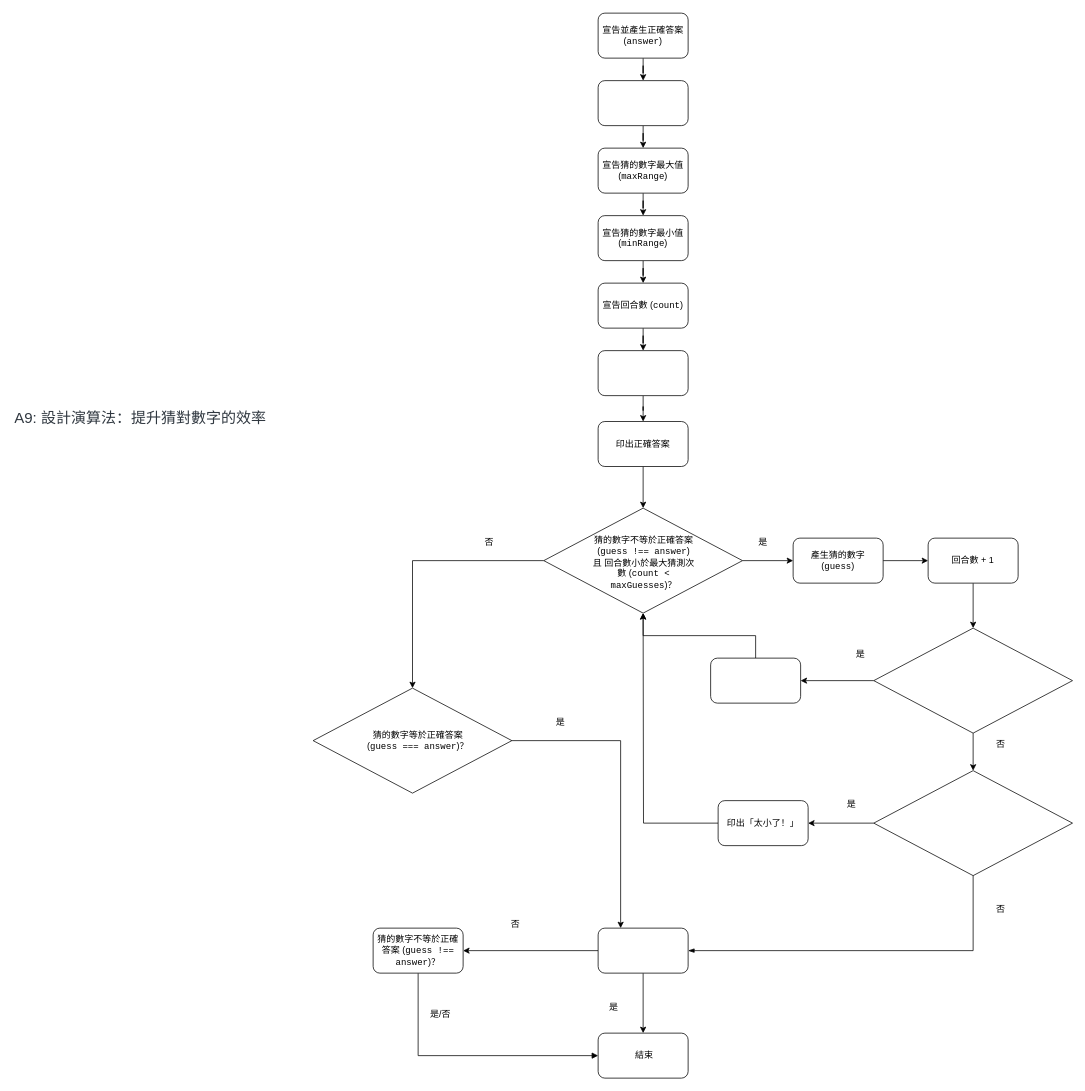
The diagram is 1085 pixels wide and 1091 high, and some of its shapes have lost their labels. The centre of each missing label's shape, as x and y in pixels:
印出「太大了！」: (755,680)
印出「恭喜答對了！」: (642,950)
宣告最大猜測次數 ( maxGuesses ): (642,373)
宣告猜的數字 ( guess ): (642,103)
猜的數字大於正確答案 ( guess > answer )？: (972,680)
猜的數字小於正確答案 ( guess < answer )？: (972,823)
